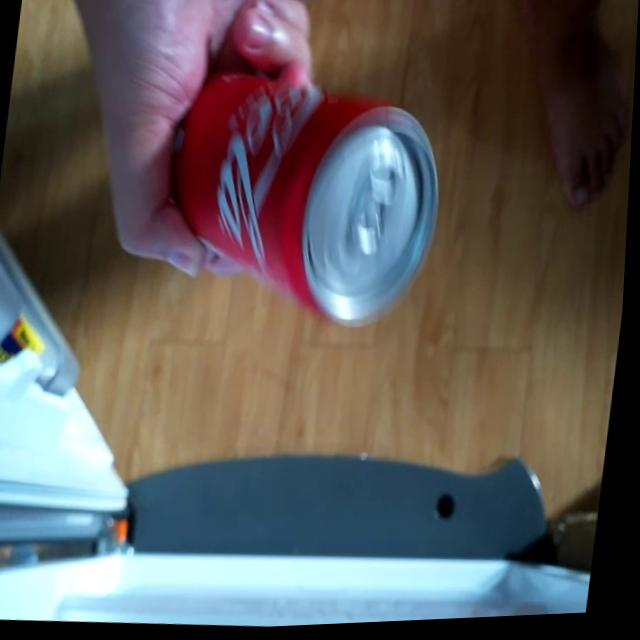coke: (143, 40, 464, 350)
